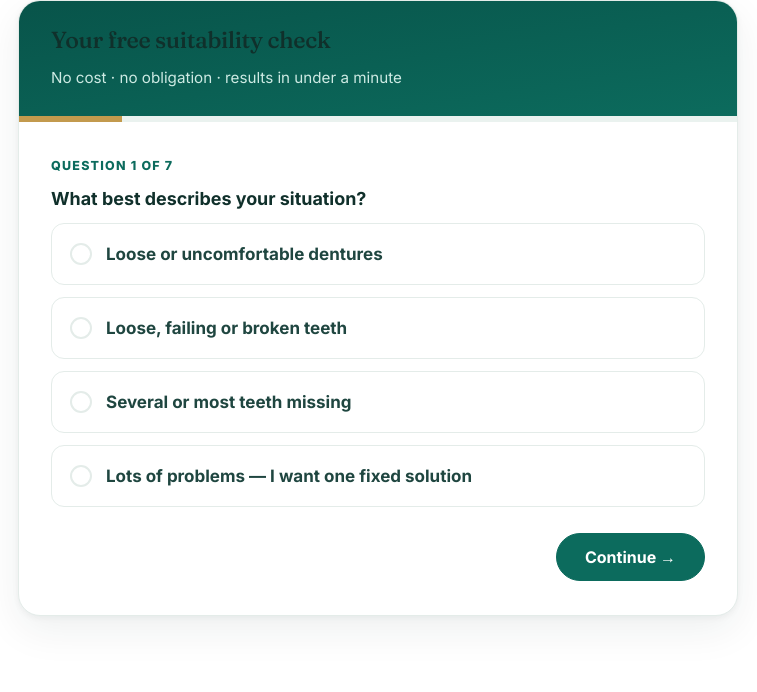
Test: SuitabilityQuiz › shows a reassurance note when 'told no elsewhere' is picked
Click the button "Loose or uncomfortable dentures".
click(378, 254)  # box [51,223,705,285]
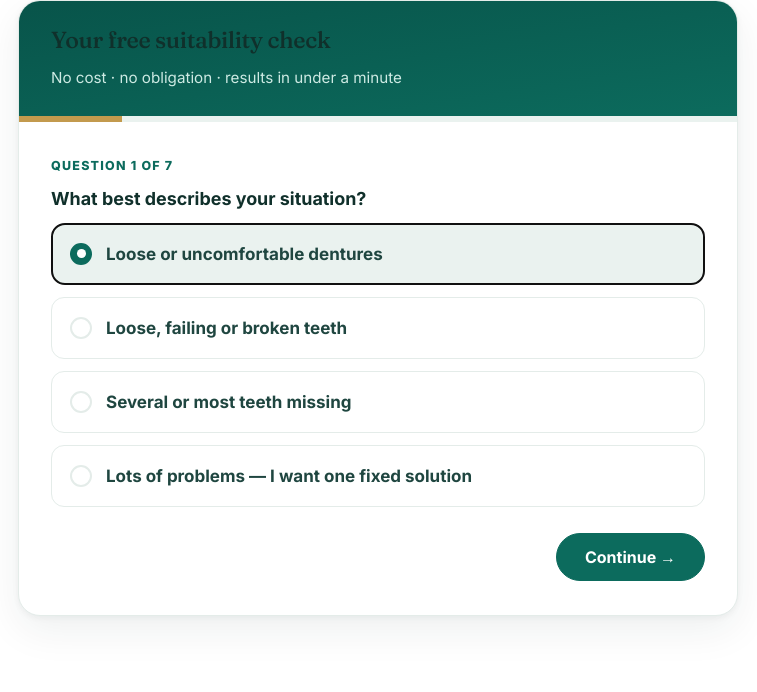
Click the button "Continue →".
click(630, 557)  # box [556,533,705,581]
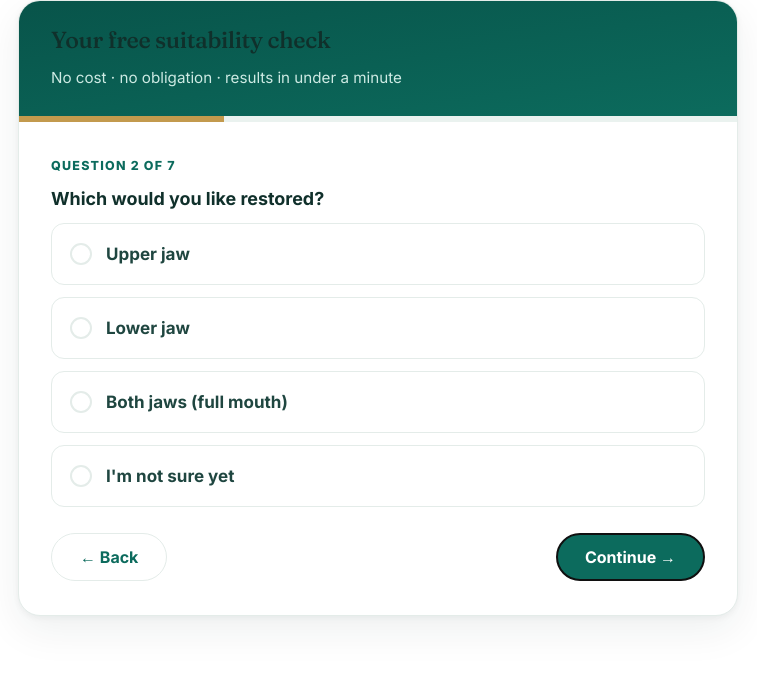
Click the button "Upper jaw".
click(148, 254)  # box [51,223,705,285]
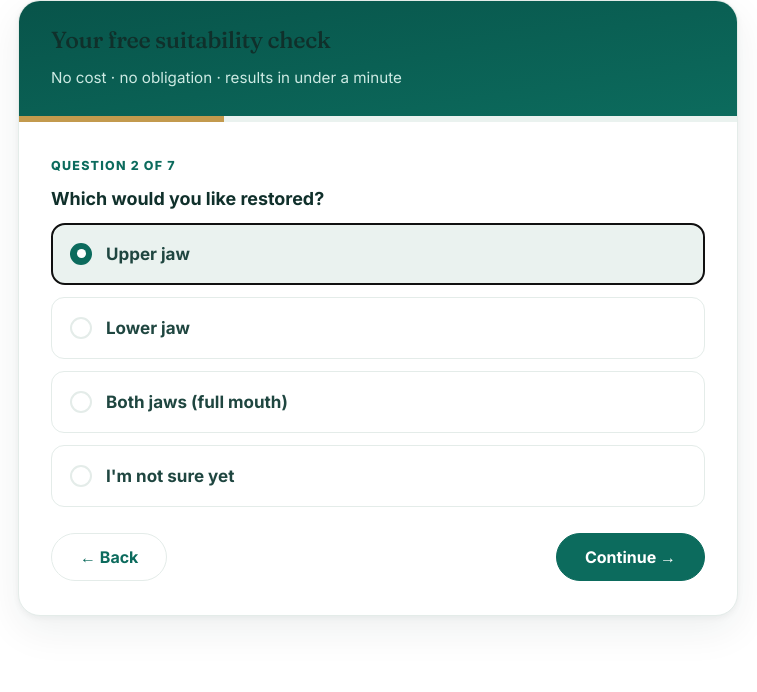
Click the button "Continue →".
click(630, 557)  # box [556,533,705,581]
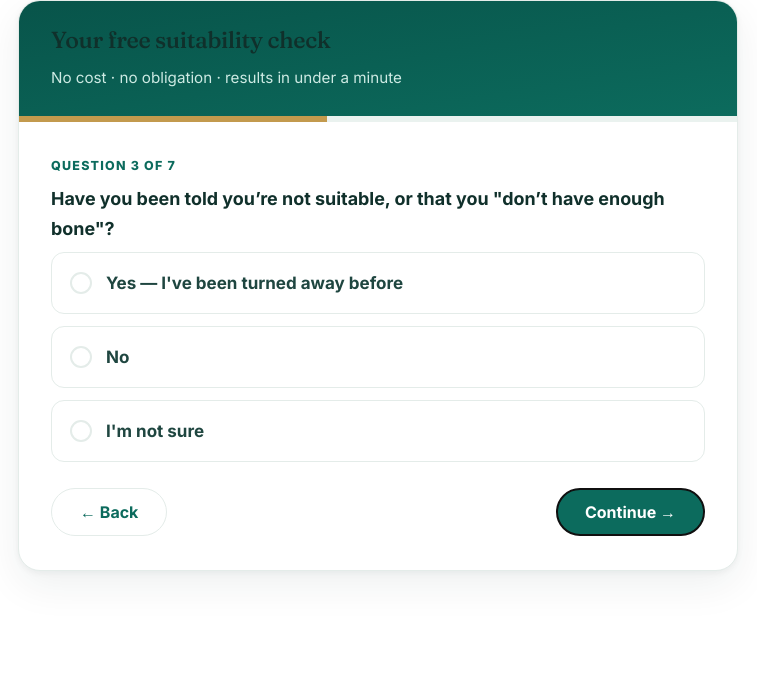
Click the button "Yes — I've been turned away before".
click(378, 283)  # box [51,252,705,314]
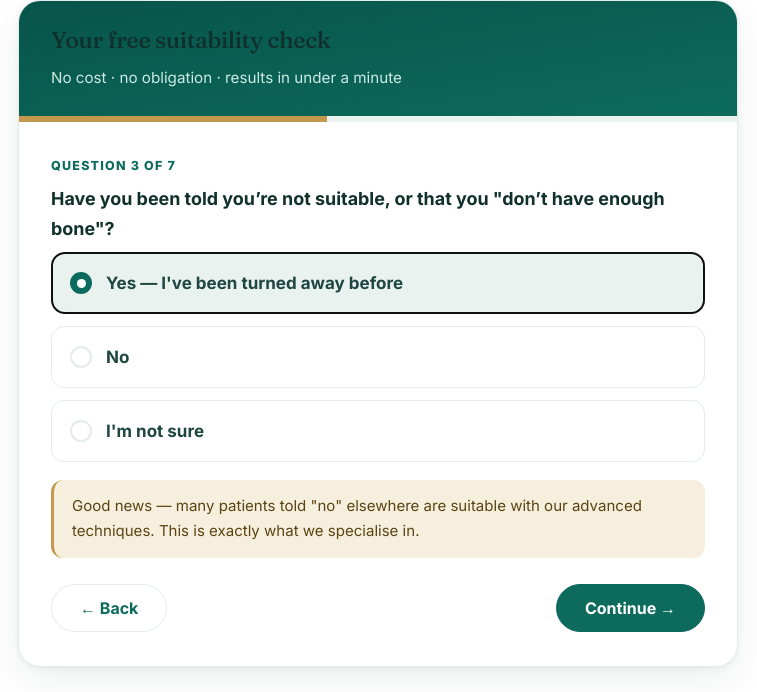
Expected: the text "this is exactly what we specialise in" is shown, [72,496,642,540]
